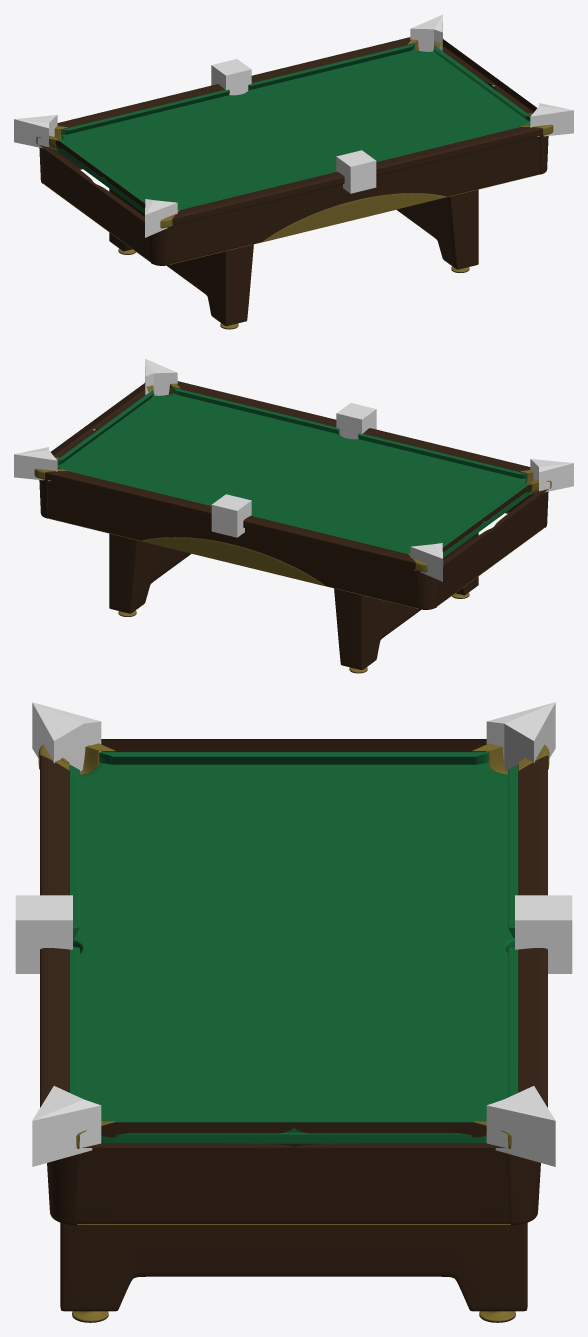
File: billiard_table.glb
3 renders of one model, top to bottom at view 1: azimuth 30°, elevation 25°; view 2: azimuth 150°, elevation 25°; view 3: azimuth 270°, elevation 25°, orthographic. The views are drawn at different scales.
Visible parts, largest first — view 1: tableBed, tableSide, tableRail, tableLeg, tableCushion, tableDecor, TriggerPocket1, TriggerPocket3, tableSideCorner, TriggerPocket4, TriggerPocket0, TriggerPocket5 (+2 smaller); view 2: tableBed, tableSide, tableRail, tableLeg, tableCushion, tableDecor, TriggerPocket4, TriggerPocket2, tableSideCorner, TriggerPocket1, TriggerPocket5, TriggerPocket0 (+2 smaller); view 3: tableBed, tableSide, tableLeg, tableRail, tableCushion, TriggerPocket0, TriggerPocket5, tableSideCorner, TriggerPocket1, TriggerPocket4, TriggerPocket2, TriggerPocket3 (+2 smaller).
Boxes of the visible parts, <box> form: tableBed: <box>56,49,530,213</box>; tableSide: <box>42,82,540,264</box>; tableRail: <box>39,37,542,225</box>; tableLeg: <box>109,188,478,325</box>; tableCushion: <box>57,43,530,209</box>; tableDecor: <box>43,174,540,264</box>; TriggerPocket1: <box>336,150,376,193</box>; TriggerPocket3: <box>14,115,57,148</box>; tableSideCorner: <box>39,135,548,265</box>; TriggerPocket4: <box>211,59,251,95</box>; TriggerPocket0: <box>530,103,573,136</box>; TriggerPocket5: <box>410,14,442,51</box>; tableBed: <box>57,393,531,557</box>; tableSide: <box>47,426,545,608</box>; tableRail: <box>45,381,548,569</box>; tableLeg: <box>109,532,478,669</box>; tableCushion: <box>57,387,530,553</box>; tableDecor: <box>47,518,544,608</box>; TriggerPocket4: <box>211,494,251,537</box>; TriggerPocket2: <box>530,459,573,492</box>; tableSideCorner: <box>39,479,548,609</box>; TriggerPocket1: <box>336,403,376,439</box>; TriggerPocket5: <box>14,447,57,480</box>; TriggerPocket0: <box>145,358,177,395</box>; tableBed: <box>73,763,514,1143</box>; tableSide: <box>77,1145,510,1223</box>; tableLeg: <box>60,1143,527,1311</box>; tableRail: <box>40,739,547,1147</box>; tableCushion: <box>69,752,518,1132</box>; TriggerPocket0: <box>32,1086,101,1166</box>; TriggerPocket5: <box>486,1086,555,1166</box>; tableSideCorner: <box>47,1153,540,1225</box>; TriggerPocket1: <box>15,895,72,973</box>; TriggerPocket4: <box>515,895,572,973</box>; TriggerPocket2: <box>32,702,101,771</box>; TriggerPocket3: <box>486,702,555,771</box>.
Size of what is drawn, in the model's own units: 2.7 by 0.887 by 1.52.
